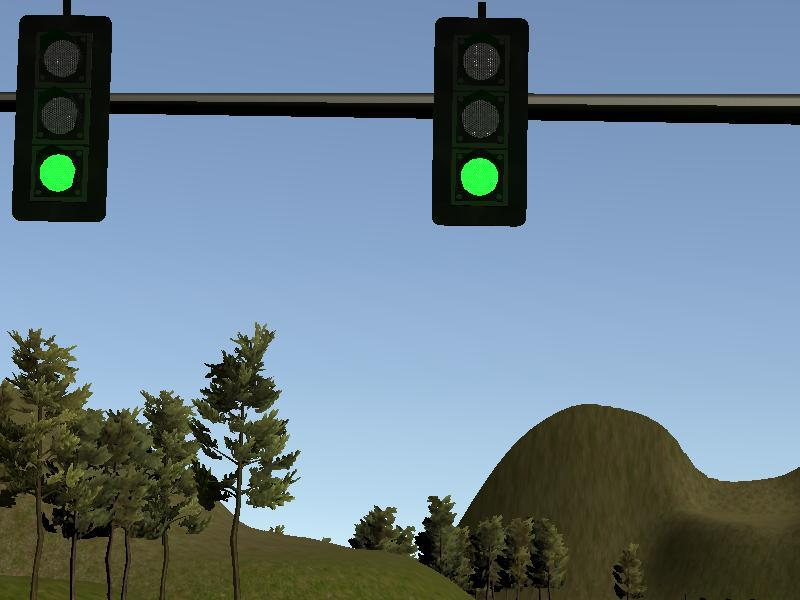Green: (15, 14, 110, 221), (433, 18, 528, 225)
